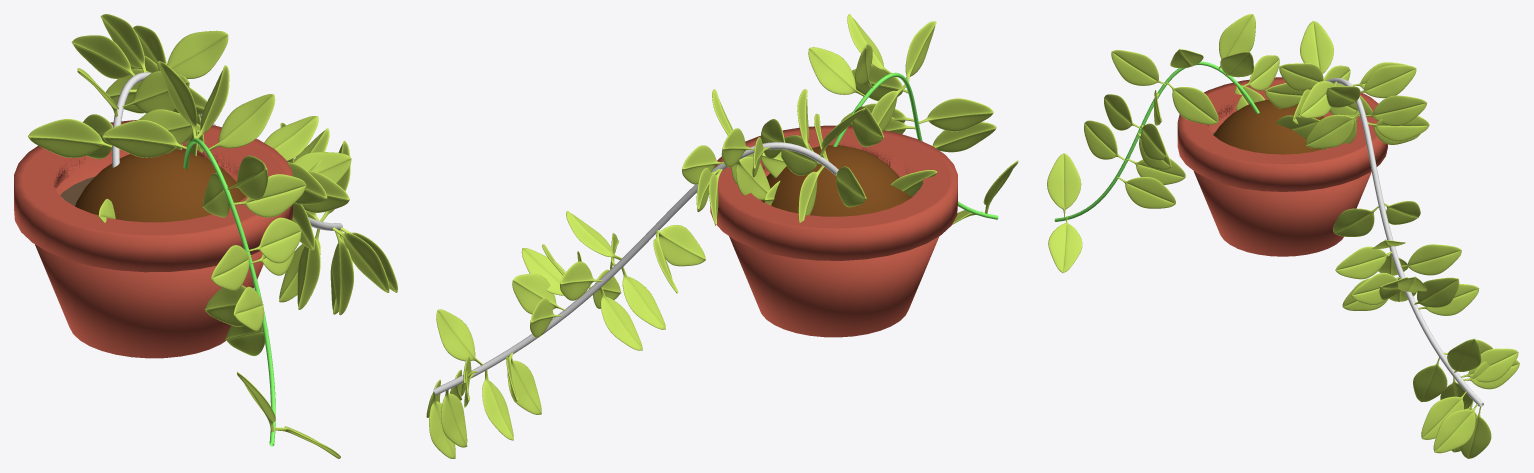
Rendered from Verano 1.fbx.
3 views of the same model, side by side, from view 1: azimuth 30°, elevation 25°; view 2: azimuth 150°, elevation 25°; view 3: azimuth 270°, elevation 25° (orthographic). The views are drawn at different scales.
Visible parts, largest first — view 1: Circle.021, Sphere.014, NurbsPath.031|Plane.026|Dupli|37, NurbsPath.031|Plane.026|Dupli|28, NurbsPath.030|Plane.026|Dupli|14, NurbsPath.030|Plane.026|Dupli|11, NurbsPath.031|Plane.026|Dupli|30, NurbsPath.030, NurbsPath.030|Plane.026|Dupli|8, NurbsPath.030|Plane.026|Dupli|6, NurbsPath.031|Plane.026|Dupli|20, NurbsPath.031|Plane.026|Dupli|3 (+27 smaller); view 2: Circle.021, Sphere.014, NurbsPath.031, NurbsPath.030|Plane.026|Dupli|7, NurbsPath.030|Plane.026|Dupli|13, NurbsPath.031|Plane.026|Dupli|21, NurbsPath.031|Plane.026|Dupli|7, NurbsPath.031|Plane.026|Dupli|19, NurbsPath.031|Plane.026|Dupli|16, NurbsPath.031|Plane.026|Dupli|11, NurbsPath.030|Plane.026|Dupli|3, NurbsPath.031|Plane.026|Dupli|8 (+21 smaller); view 3: Circle.021, Sphere.014, NurbsPath.031, NurbsPath.030|Plane.026|Dupli|, NurbsPath.031|Plane.026|Dupli|, NurbsPath.030|Plane.026|Dupli|9, NurbsPath.031|Plane.026|Dupli|29, NurbsPath.030|Plane.026|Dupli|10, NurbsPath.031|Plane.026|Dupli|17, NurbsPath.031|Plane.026|Dupli|25, NurbsPath.031|Plane.026|Dupli|26, NurbsPath.030|Plane.026|Dupli|2 (+29 smaller).
Part boxes in pixels (x1,y1,x2,y2): Circle.021: [14, 120, 292, 358]; Sphere.014: [75, 149, 245, 222]; NurbsPath.031|Plane.026|Dupli|37: [28, 119, 111, 157]; NurbsPath.031|Plane.026|Dupli|28: [167, 30, 228, 79]; NurbsPath.030|Plane.026|Dupli|14: [102, 120, 186, 157]; NurbsPath.030|Plane.026|Dupli|11: [209, 94, 275, 150]; NurbsPath.031|Plane.026|Dupli|30: [71, 35, 134, 78]; NurbsPath.030: [183, 138, 275, 446]; NurbsPath.030|Plane.026|Dupli|8: [231, 174, 306, 217]; NurbsPath.030|Plane.026|Dupli|6: [247, 217, 301, 263]; NurbsPath.031|Plane.026|Dupli|20: [264, 116, 318, 160]; NurbsPath.031|Plane.026|Dupli|3: [332, 227, 389, 292]; Circle.021: [710, 125, 957, 337]; Sphere.014: [761, 145, 911, 216]; NurbsPath.031: [433, 142, 838, 395]; NurbsPath.030|Plane.026|Dupli|7: [918, 98, 993, 131]; NurbsPath.030|Plane.026|Dupli|13: [808, 47, 864, 96]; NurbsPath.031|Plane.026|Dupli|21: [659, 225, 705, 266]; NurbsPath.031|Plane.026|Dupli|7: [436, 309, 483, 365]; NurbsPath.031|Plane.026|Dupli|19: [621, 267, 665, 329]; NurbsPath.031|Plane.026|Dupli|16: [600, 287, 642, 350]; NurbsPath.031|Plane.026|Dupli|11: [512, 274, 565, 314]; NurbsPath.030|Plane.026|Dupli|3: [932, 122, 996, 152]; NurbsPath.031|Plane.026|Dupli|8: [507, 357, 541, 414]; Circle.021: [1177, 77, 1387, 256]; Sphere.014: [1213, 99, 1324, 154]; NurbsPath.031: [1326, 78, 1483, 407]; NurbsPath.030|Plane.026|Dupli|: [1047, 153, 1081, 217]; NurbsPath.031|Plane.026|Dupli|: [1433, 404, 1477, 453]; NurbsPath.030|Plane.026|Dupli|9: [1166, 82, 1218, 124]; NurbsPath.031|Plane.026|Dupli|29: [1360, 65, 1416, 98]; NurbsPath.030|Plane.026|Dupli|10: [1111, 50, 1166, 85]; NurbsPath.031|Plane.026|Dupli|17: [1400, 244, 1461, 275]; NurbsPath.031|Plane.026|Dupli|25: [1305, 112, 1359, 148]; NurbsPath.031|Plane.026|Dupli|26: [1365, 95, 1426, 126]; NurbsPath.030|Plane.026|Dupli|2: [1116, 176, 1175, 208].
Size of the model in its own units: 62.09 by 55.56 by 72.58.
